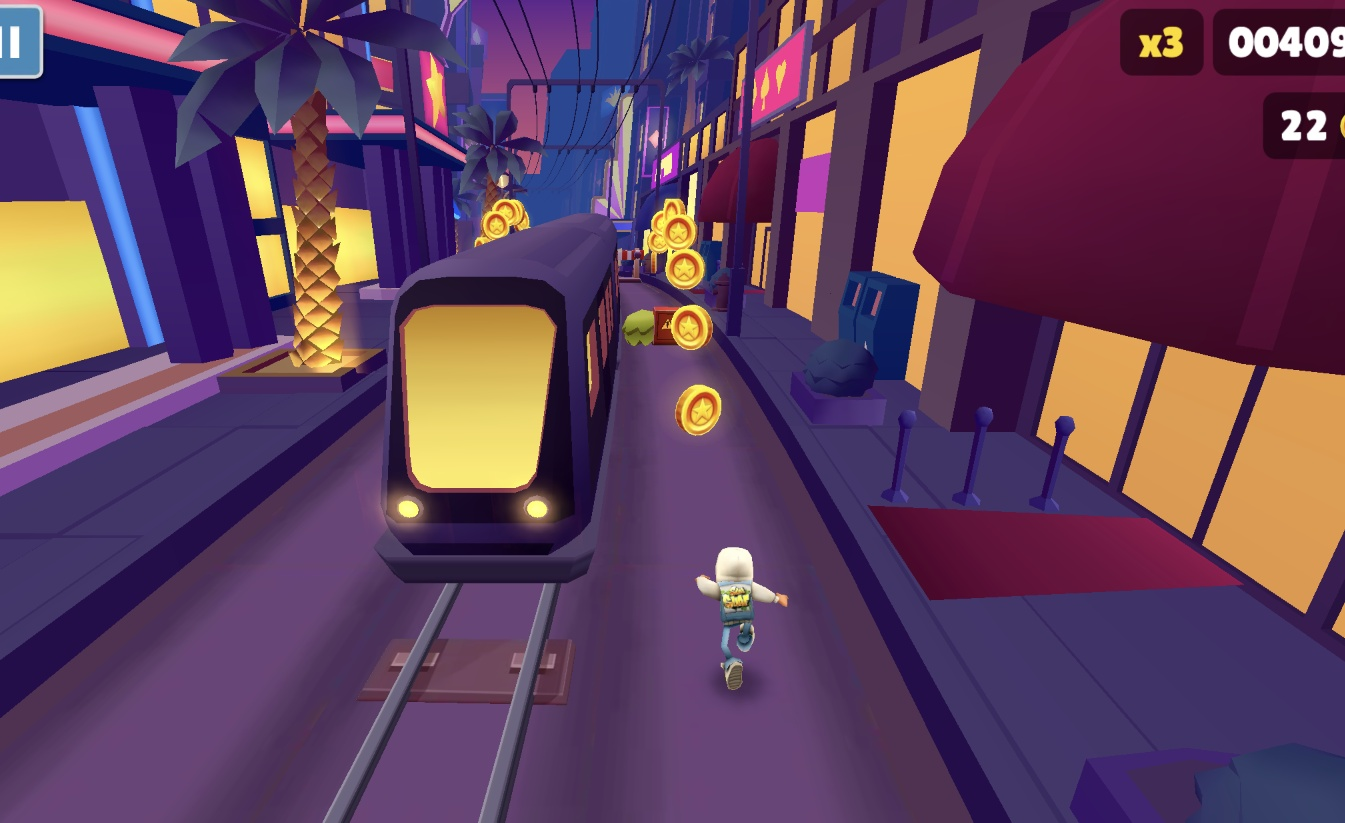bush: (622, 308, 653, 348), (684, 314, 711, 347)
ground_barrier: (613, 244, 642, 285)
small_obstacle: (653, 306, 684, 347)
train: (376, 209, 624, 583)
